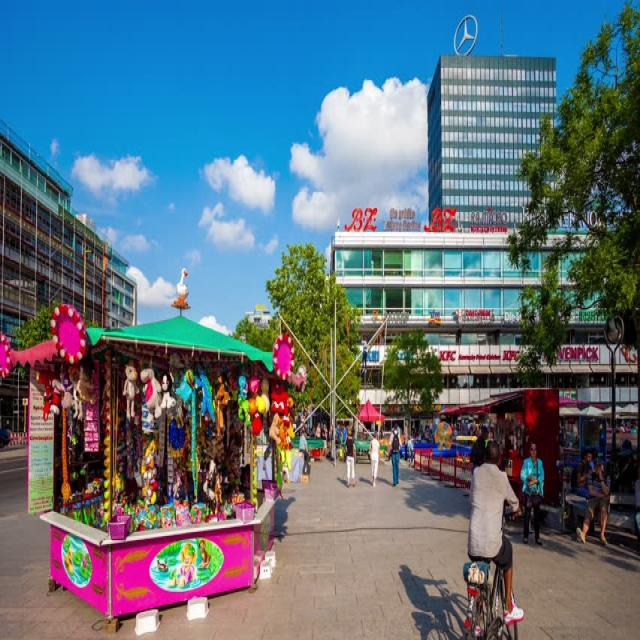body: (467, 436, 525, 624), (392, 553, 466, 639), (405, 411, 513, 464), (573, 456, 611, 549), (520, 438, 545, 546), (309, 406, 346, 458), (610, 434, 640, 494), (570, 447, 594, 500), (385, 421, 401, 488), (336, 472, 394, 488), (343, 425, 356, 488), (367, 428, 380, 488), (298, 428, 311, 476), (358, 329, 370, 375), (292, 411, 309, 433)
